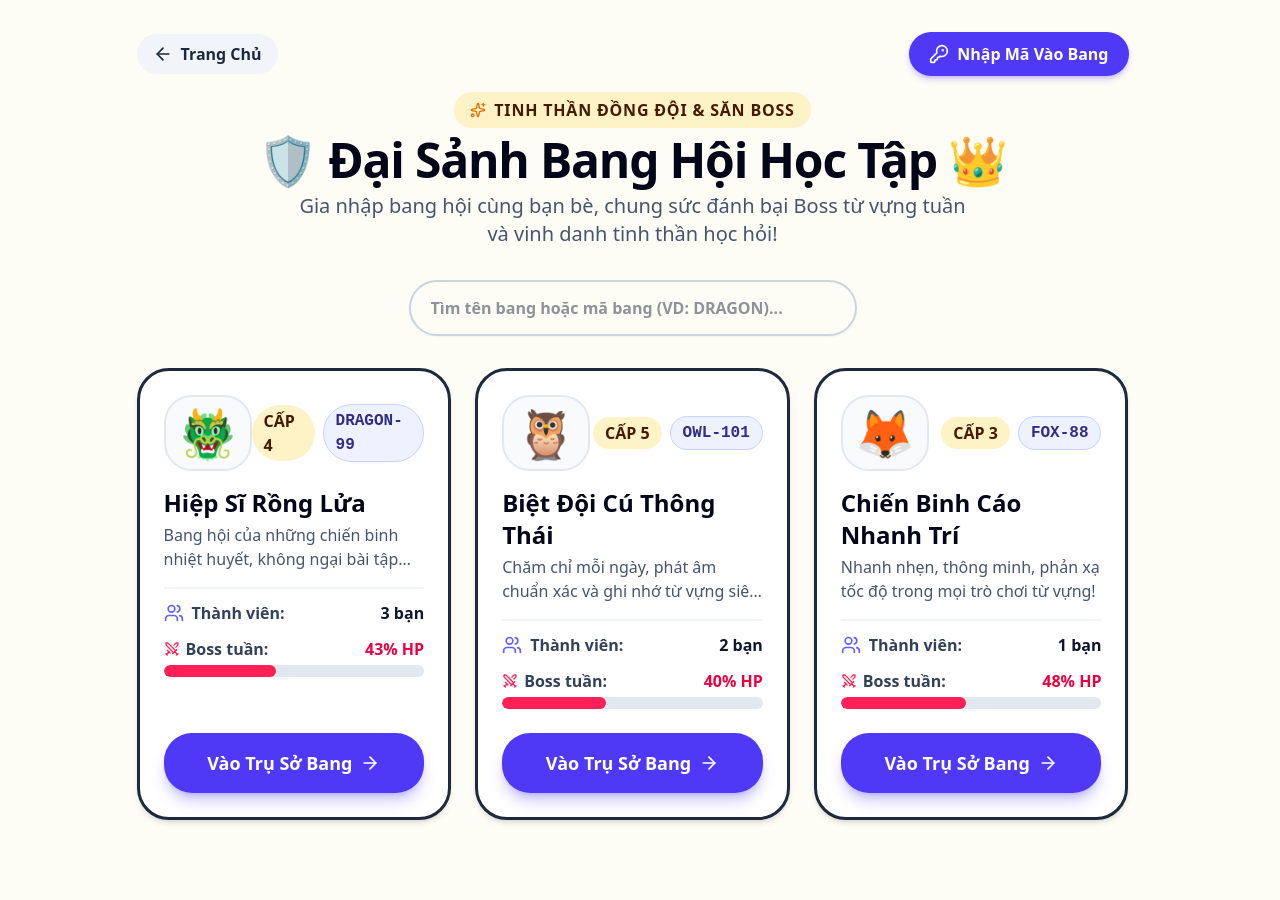
Test case: GuildHub Component › filters guilds based on search term
Type "rồng" into the field with placeholder "Tìm tên bang hoặc mã bang (VD: DRAGON)..." at point(632, 308), box x1=408 y1=280 x2=856 y2=336
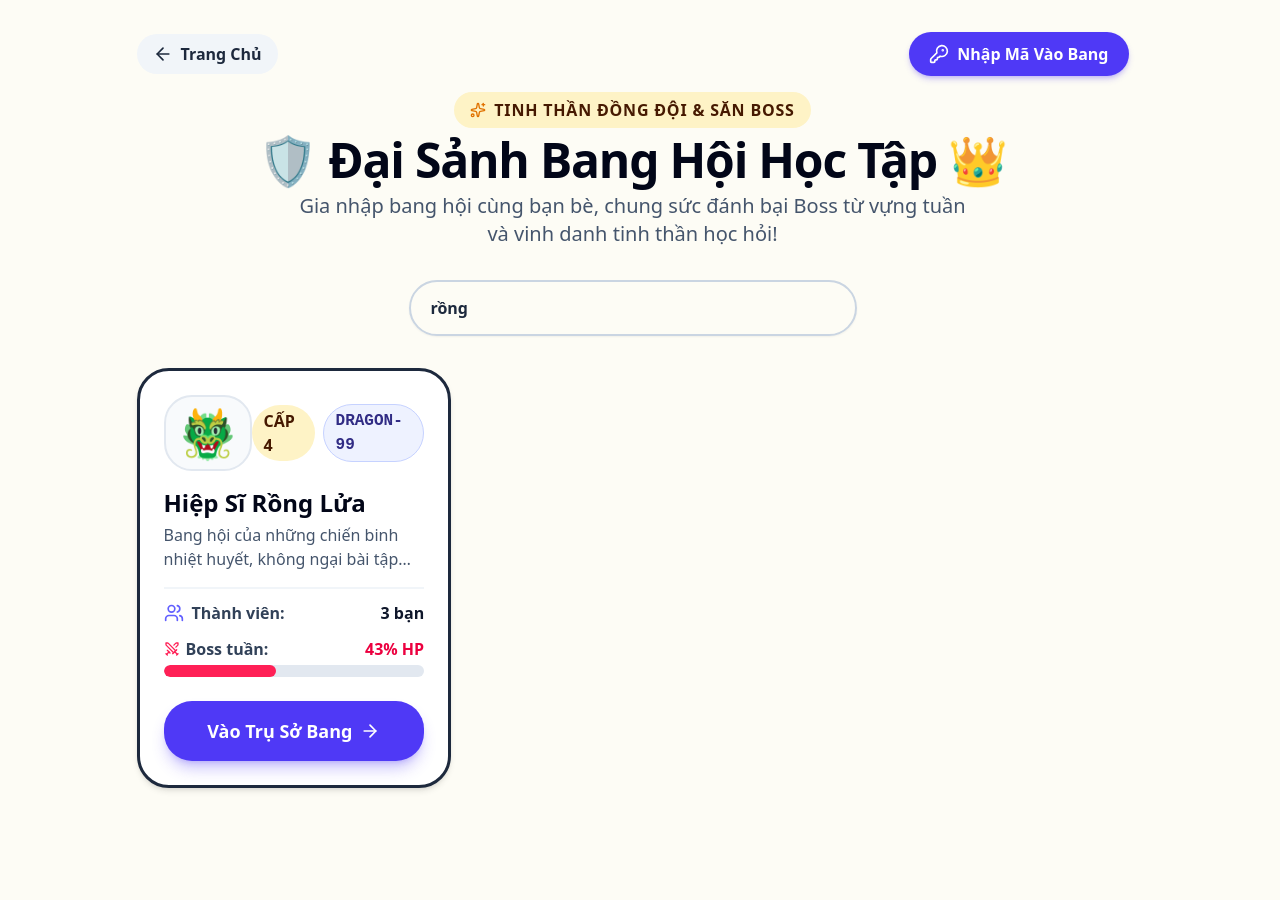
Expected: the heading "Hiệp Sĩ Rồng Lửa" is shown, x1=164 y1=486 x2=366 y2=519
Result: the heading "Biệt Đội Cú Thông Thái" is gone
